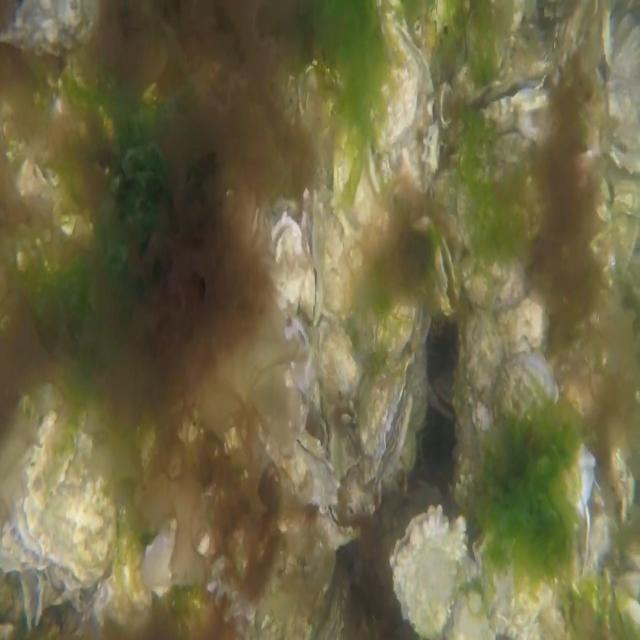Oyster-Closed: (472, 521, 568, 637), (259, 429, 342, 517), (360, 352, 416, 482), (318, 501, 363, 554)
Oyster-Indeterminate: (11, 410, 112, 591), (490, 351, 596, 514), (390, 503, 468, 638), (364, 0, 421, 153), (330, 115, 385, 269), (462, 303, 506, 477), (0, 0, 93, 58), (322, 182, 359, 321), (317, 316, 362, 428), (374, 282, 432, 366), (458, 244, 529, 308), (605, 205, 640, 278), (143, 518, 175, 596)
Oyster-Open: (464, 75, 560, 164), (266, 209, 302, 323), (300, 186, 324, 326), (434, 236, 460, 316), (295, 396, 329, 455), (590, 0, 612, 88)
